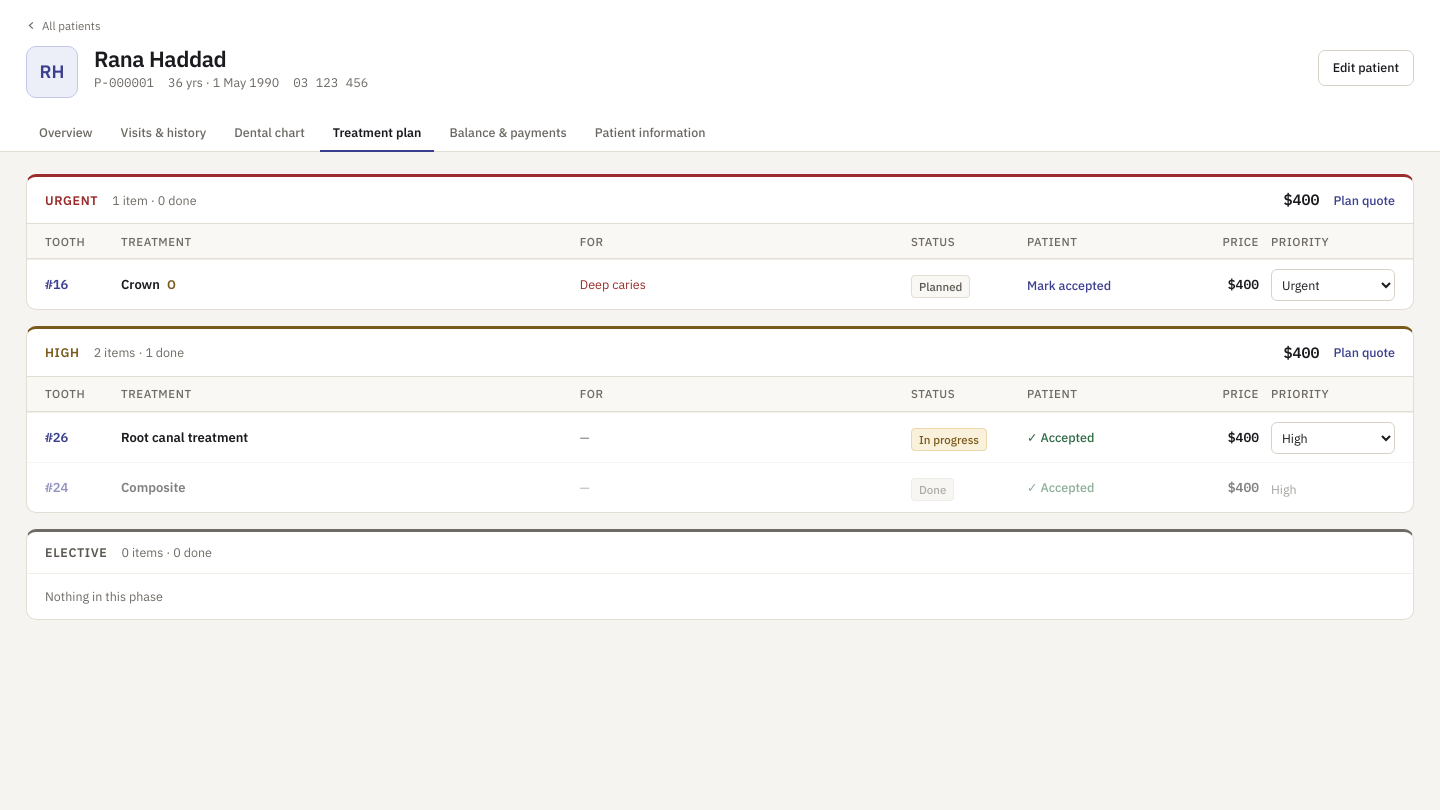
TreatmentPlanTab › marks a plan accepted; work already begun keeps its acceptance
Click the button with aria-label "Mark Crown accepted": (1069, 285) [1027,278,1111,291]
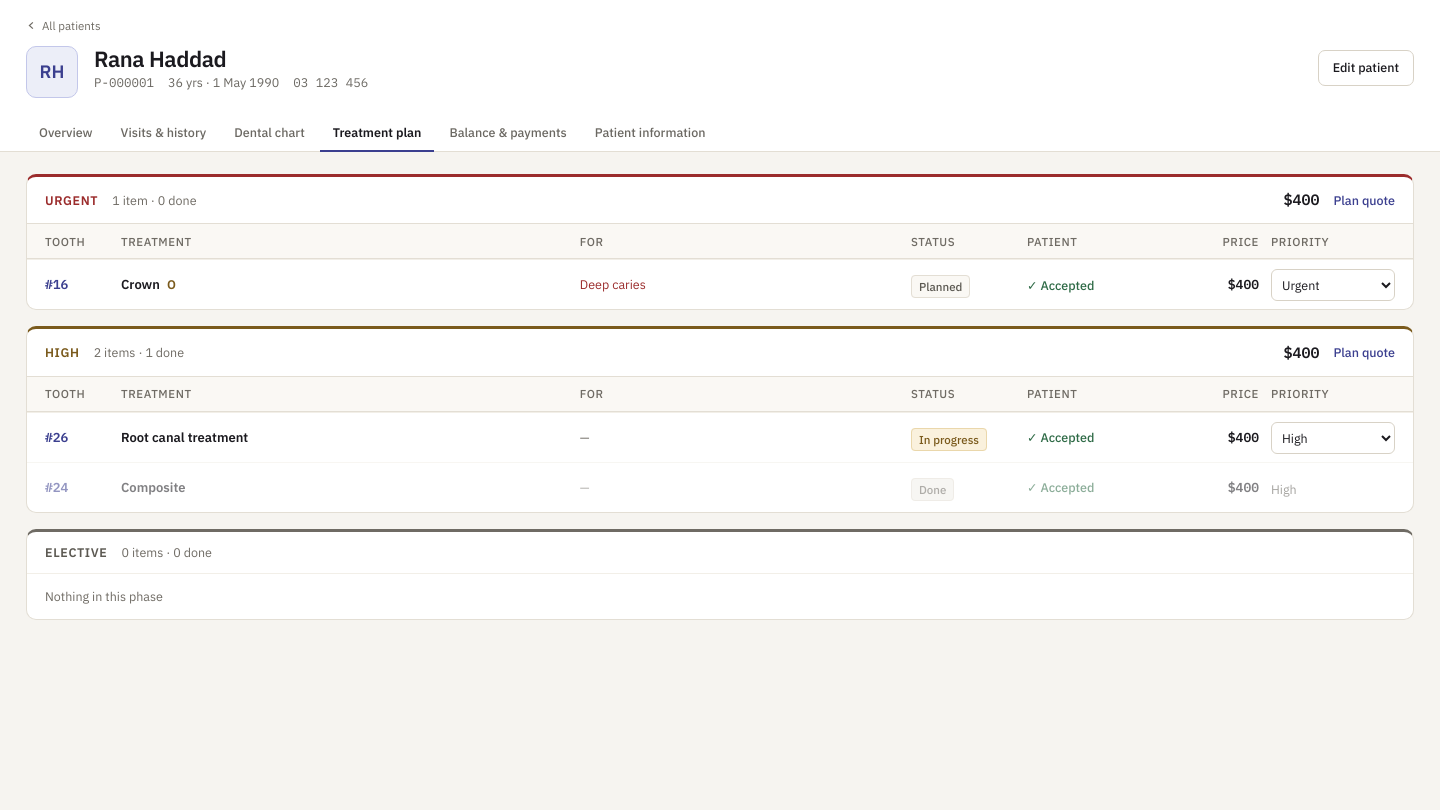
Expected: the button with aria-label "Take back the acceptance of Crown" reads "✓ Accepted", [1027,278,1094,291]
